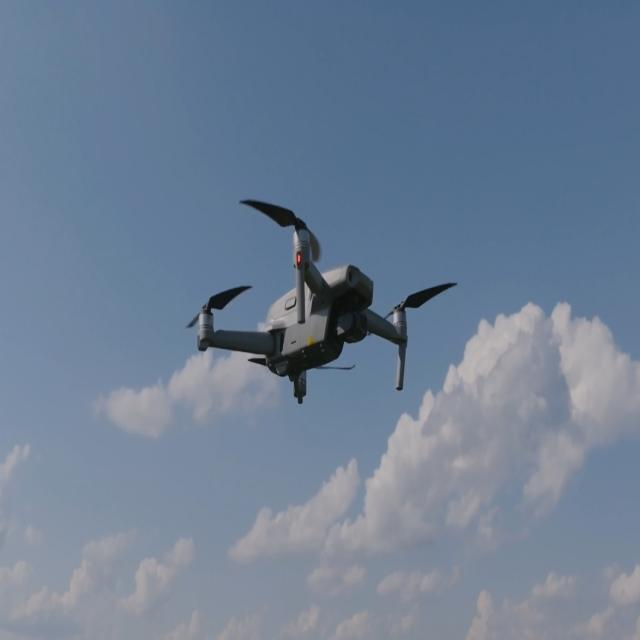Drone: (197, 205, 442, 405)
